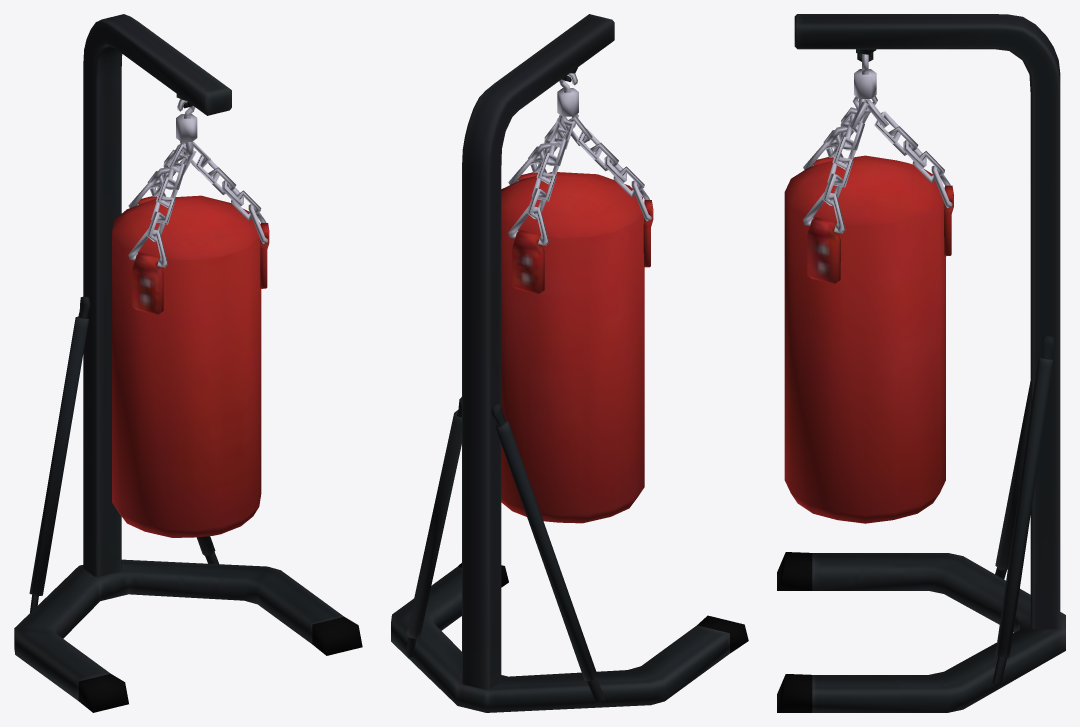
Rendered from punching-bag.glb.
3 renders of one model, left to right at view 1: azimuth 30°, elevation 25°; view 2: azimuth 150°, elevation 25°; view 3: azimuth 270°, elevation 25°, orthographic. The views are drawn at different scales.
Bounding box in the file's own units: 9.41 × 19.45 × 8.16.
1 material, 1 textured.
